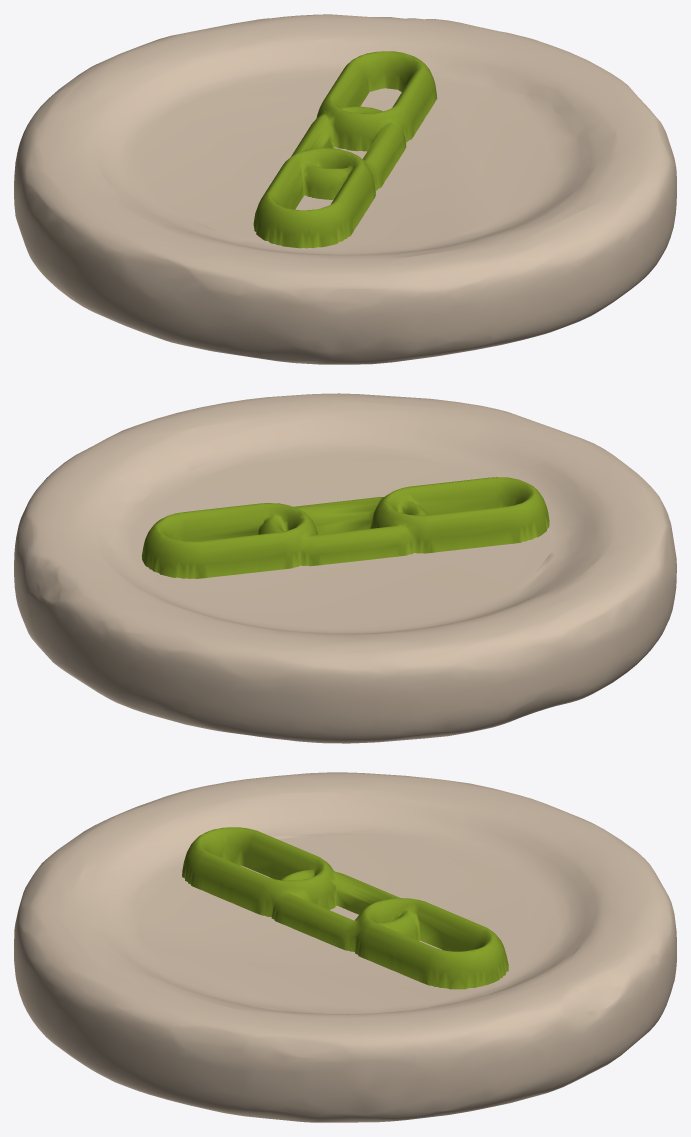
The model's file is token-warlock-red-draco.glb.
3 renders of one model, top to bottom at view 1: azimuth 30°, elevation 25°; view 2: azimuth 150°, elevation 25°; view 3: azimuth 270°, elevation 25°, orthographic.
Visible parts, largest first — view 1: token_warlock_red; view 2: token_warlock_red; view 3: token_warlock_red.
Boxes of the visible parts, x1,y1,x2,y2 form: token_warlock_red: [14, 14, 676, 364]; token_warlock_red: [14, 393, 676, 743]; token_warlock_red: [14, 772, 676, 1122].
Bounding box in the file's own units: 0.414 × 0.0716 × 0.4142.
